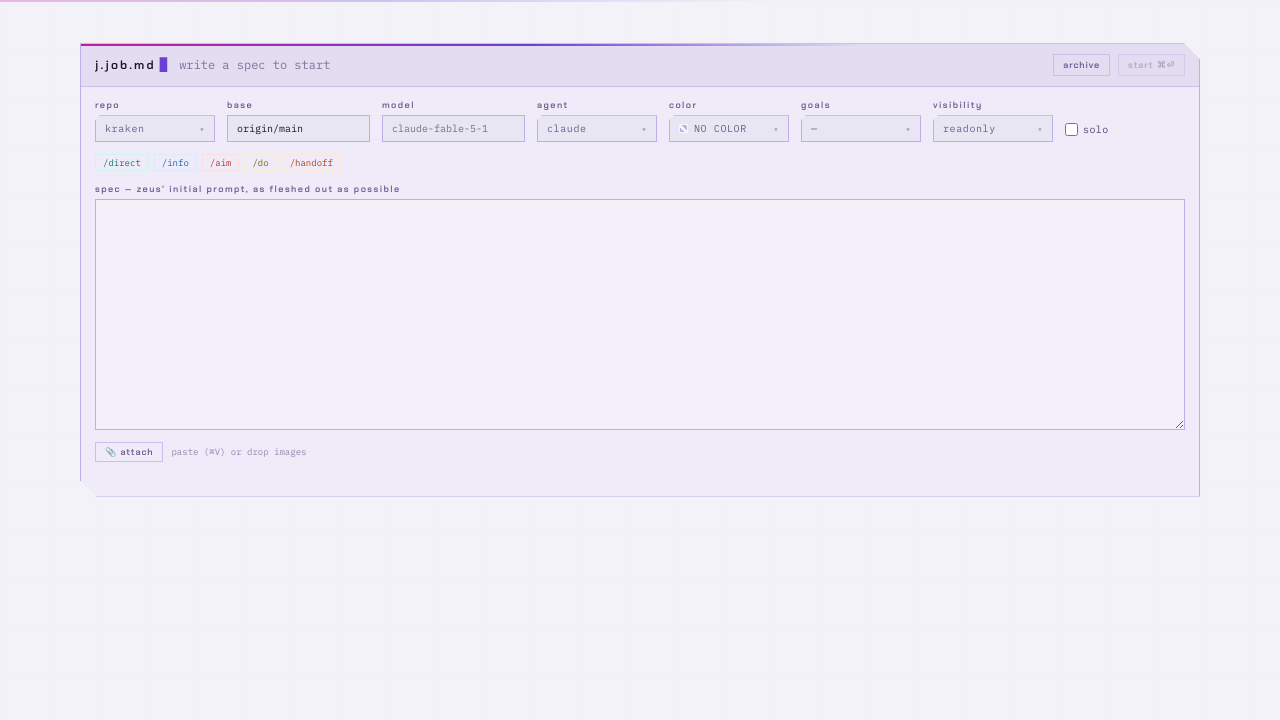
the job colour strip › POSTs the pick on the spot rather than through the form autosave
This screenshot has width=1280, height=720.
Click the button with class "colorsel-btn" showing "NO COLOR ▾" at (729, 129), box [669,115,789,142]
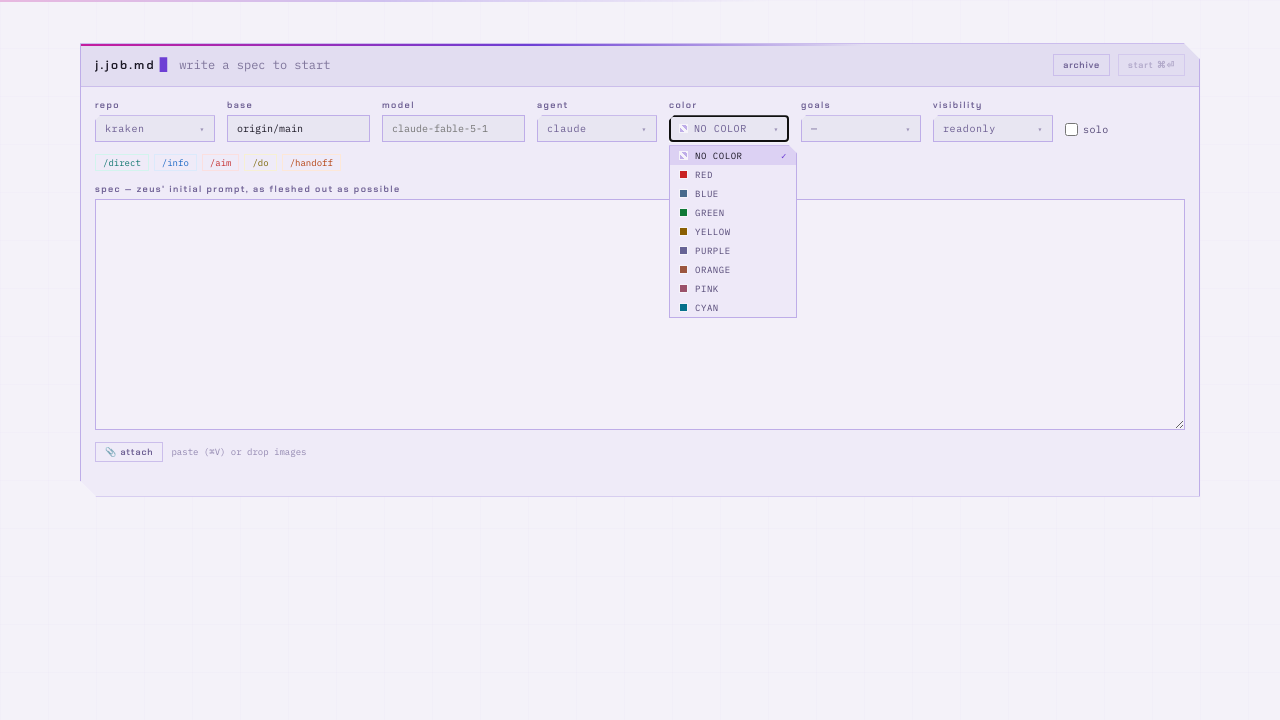
Click the option with class "colorsel-row" showing "PURPLE" at (705, 251), box [679,245,731,256]
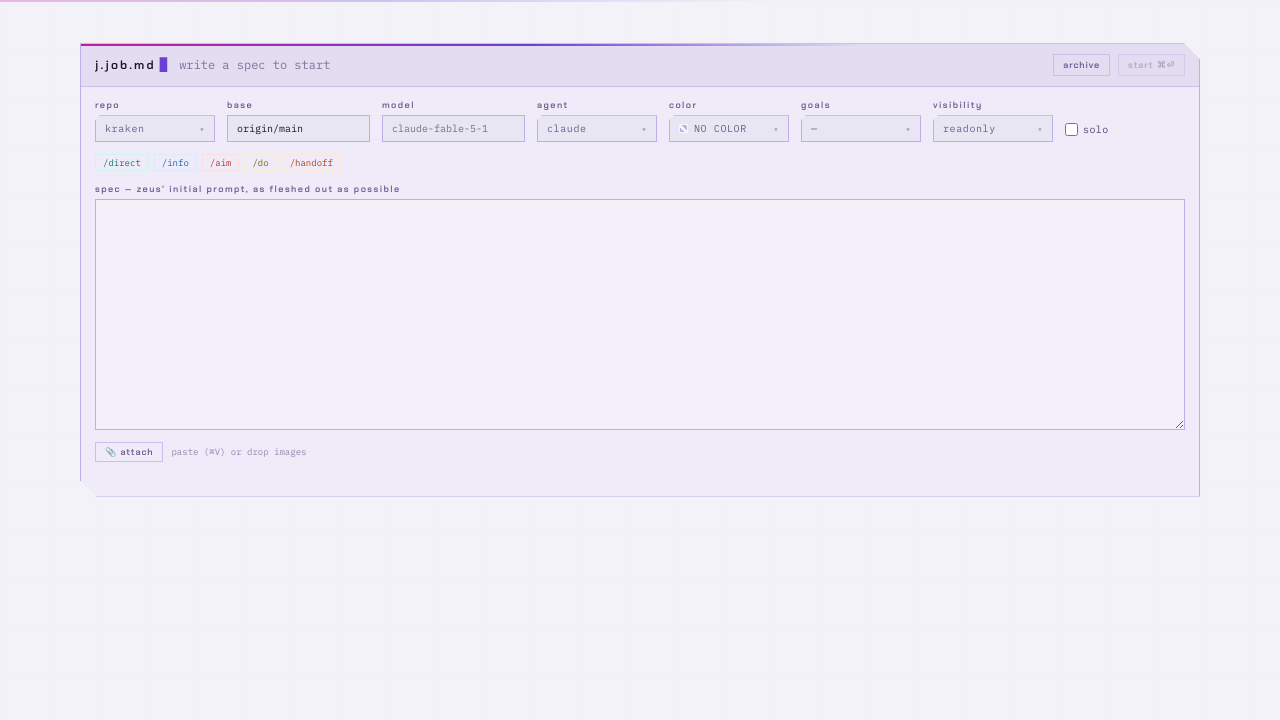
Check: the list with class "colorsel-menu" is gone
